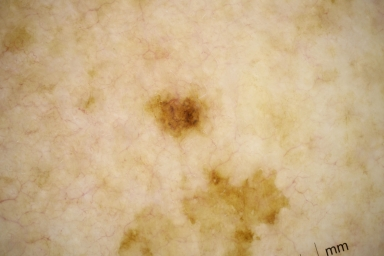nevus: (155, 94, 201, 130)
